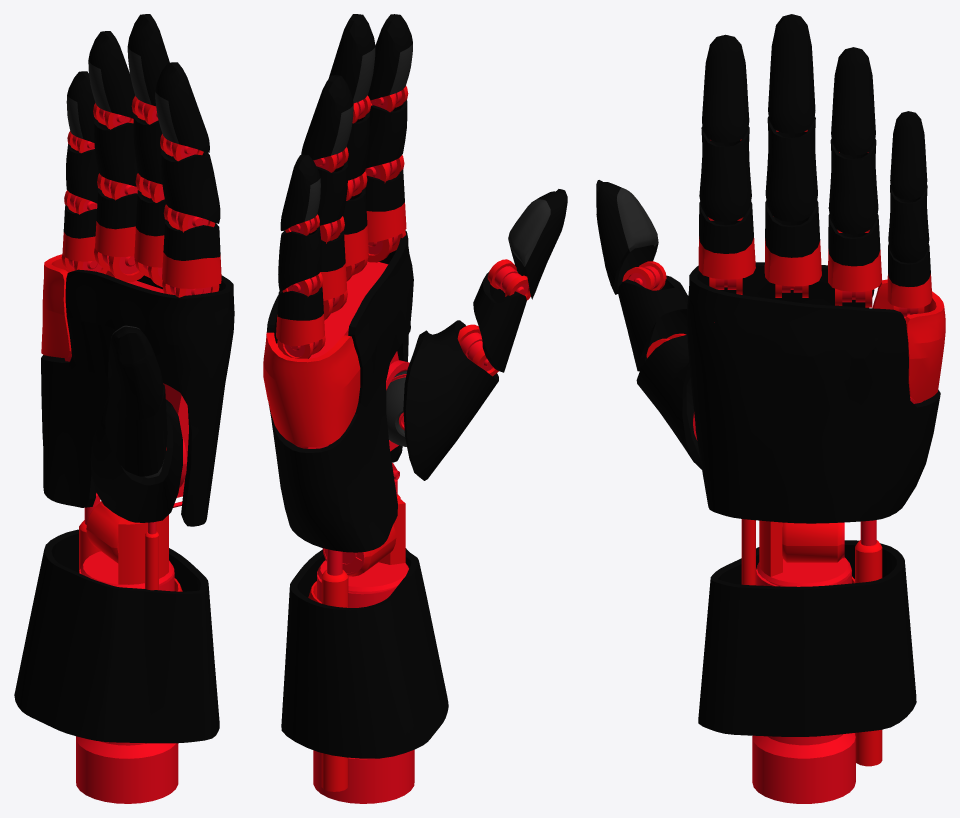
File: righthand.fbx
3 views of the same model, side by side, from view 1: azimuth 30°, elevation 25°; view 2: azimuth 150°, elevation 25°; view 3: azimuth 270°, elevation 25° (orthographic).
Visible parts, largest first — view 1: Cylinder.030, Sphere.001, Cylinder.002, Cylinder.020, Cylinder.003, Cylinder.019, Cylinder.001, Cylinder.025, Cylinder.024, Cylinder.022, Cylinder.026, Cylinder.021 (+4 smaller); view 2: Cylinder.030, Sphere.001, Cylinder.002, Cylinder.001, Cylinder.025, Cylinder.019, Cylinder.020, Cylinder.029, Cylinder.022, Cylinder.003, Cylinder.027, Cylinder.028 (+4 smaller); view 3: Cylinder.030, Cylinder.002, Cylinder.022, Cylinder.023, Cylinder.019, Sphere.001, Cylinder.001, Cylinder.021, Cylinder.025, Cylinder.003, Cylinder.020, Cylinder.026 (+4 smaller).
Part boxes in pixels (<box>): Cylinder.030: <box>14,254,234,803</box>; Sphere.001: <box>90,399,182,522</box>; Cylinder.002: <box>108,325,163,419</box>; Cylinder.020: <box>162,219,221,297</box>; Cylinder.003: <box>161,149,220,232</box>; Cylinder.019: <box>155,62,209,161</box>; Cylinder.001: <box>105,384,167,476</box>; Cylinder.025: <box>88,31,134,129</box>; Cylinder.024: <box>94,188,143,282</box>; Cylinder.022: <box>127,14,169,124</box>; Cylinder.026: <box>94,118,137,200</box>; Cylinder.021: <box>134,190,165,287</box>; Cylinder.030: <box>263,230,448,803</box>; Sphere.001: <box>386,320,498,480</box>; Cylinder.002: <box>487,189,567,300</box>; Cylinder.001: <box>457,272,526,376</box>; Cylinder.025: <box>301,75,353,172</box>; Cylinder.019: <box>368,14,412,112</box>; Cylinder.020: <box>365,169,406,262</box>; Cylinder.029: <box>276,286,325,358</box>; Cylinder.022: <box>328,14,375,123</box>; Cylinder.003: <box>365,100,407,183</box>; Cylinder.027: <box>278,226,323,296</box>; Cylinder.028: <box>280,154,320,235</box>; Cylinder.030: <box>686,262,945,803</box>; Cylinder.002: <box>596,180,666,294</box>; Cylinder.022: <box>768,14,815,133</box>; Cylinder.023: <box>765,116,817,221</box>; Cylinder.019: <box>702,34,749,142</box>; Sphere.001: <box>636,335,701,469</box>; Cylinder.001: <box>618,275,688,371</box>; Cylinder.021: <box>764,200,821,297</box>; Cylinder.025: <box>831,47,875,155</box>; Cylinder.003: <box>699,126,751,221</box>; Cylinder.020: <box>698,201,755,294</box>; Cylinder.026: <box>828,139,878,234</box>.
Size of the model in its own units: 177 by 721 by 295.
